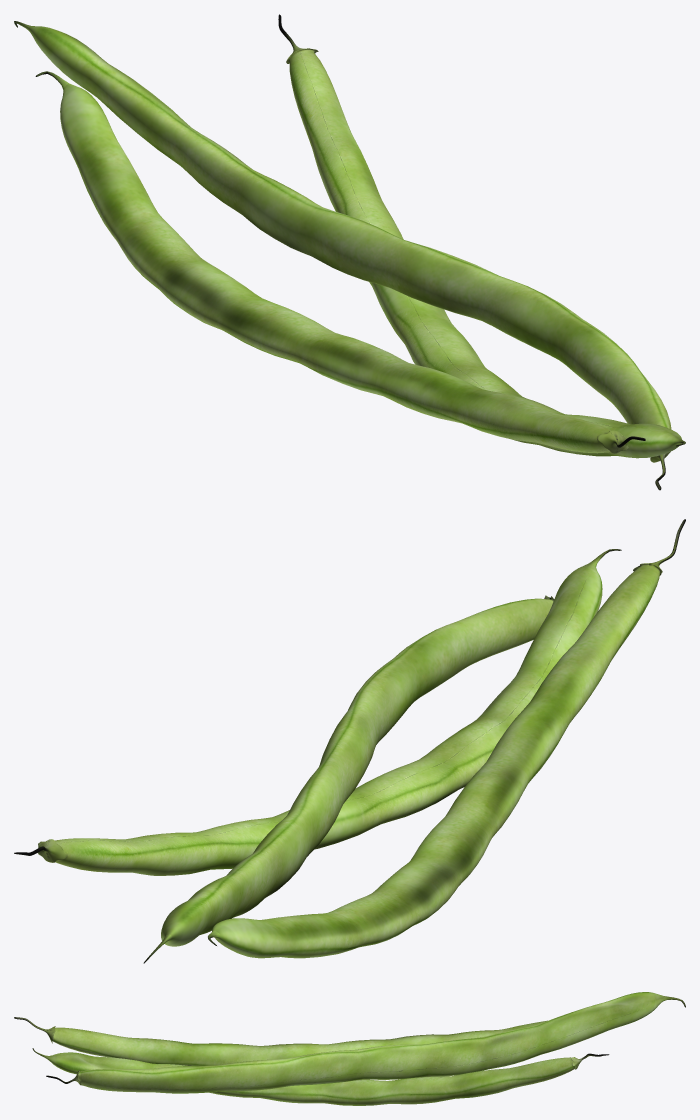
The model's file is 10182_Greenbeans.obj.
3 views of the same model, one above another, from view 1: azimuth 30°, elevation 25°; view 2: azimuth 150°, elevation 25°; view 3: azimuth 270°, elevation 25° (orthographic). The views are drawn at different scales.
Parts seen in each view (by area): view 1: GreenBeans; view 2: GreenBeans; view 3: GreenBeans.
Boxes of the visible parts, <box> form: GreenBeans: <box>14,14,685,490</box>; GreenBeans: <box>14,519,685,963</box>; GreenBeans: <box>14,992,685,1105</box>.
Bounding box in the file's own units: 4.22 × 2.13 × 15.72.
Materials: 1 (1 with a texture image).
